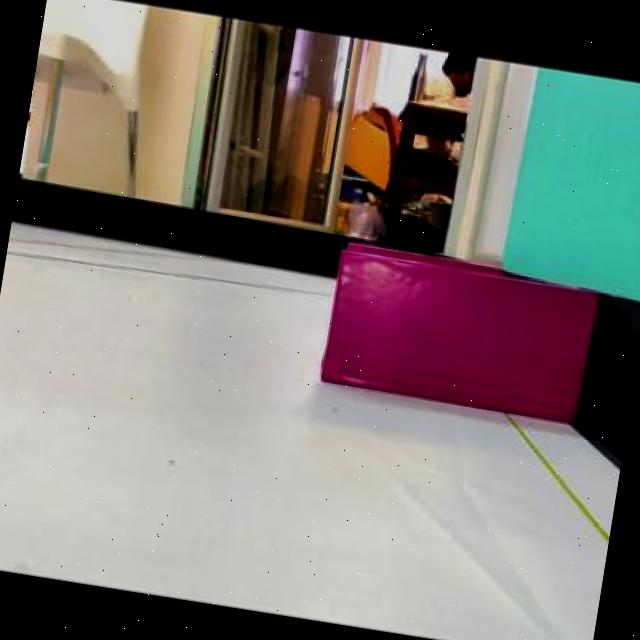xparking: (327, 254, 586, 422)
